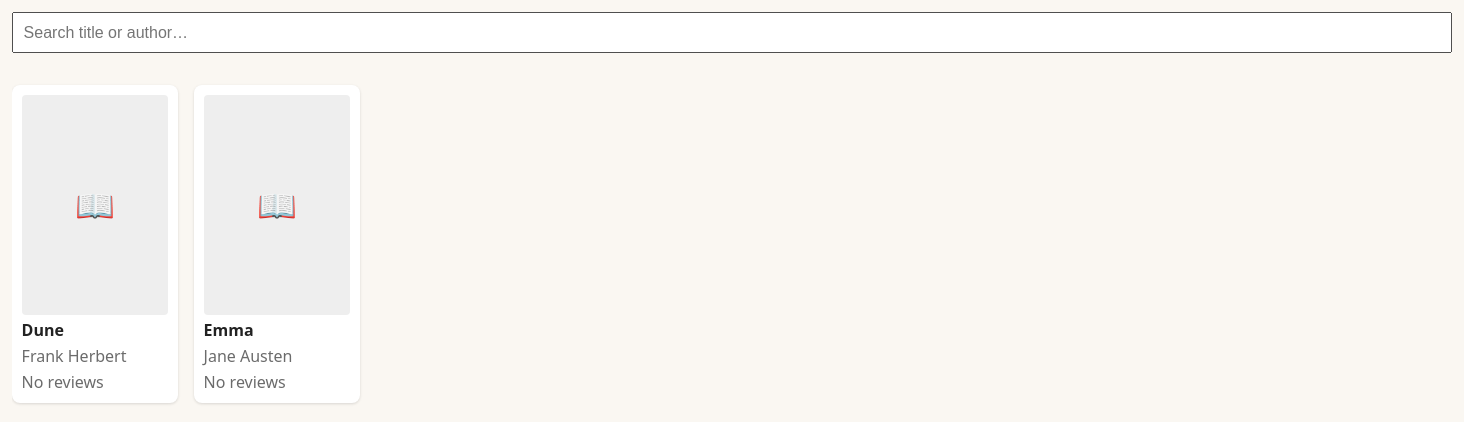
Test case: book list › lists books and searches by the typed text
The image size is (1464, 422).
Expected: the text "Emma" is shown, 204,319 -> 254,341
Step 1. Type "herb" into the search field labelled "Search" → (732, 33), box 12,12 -> 1452,53
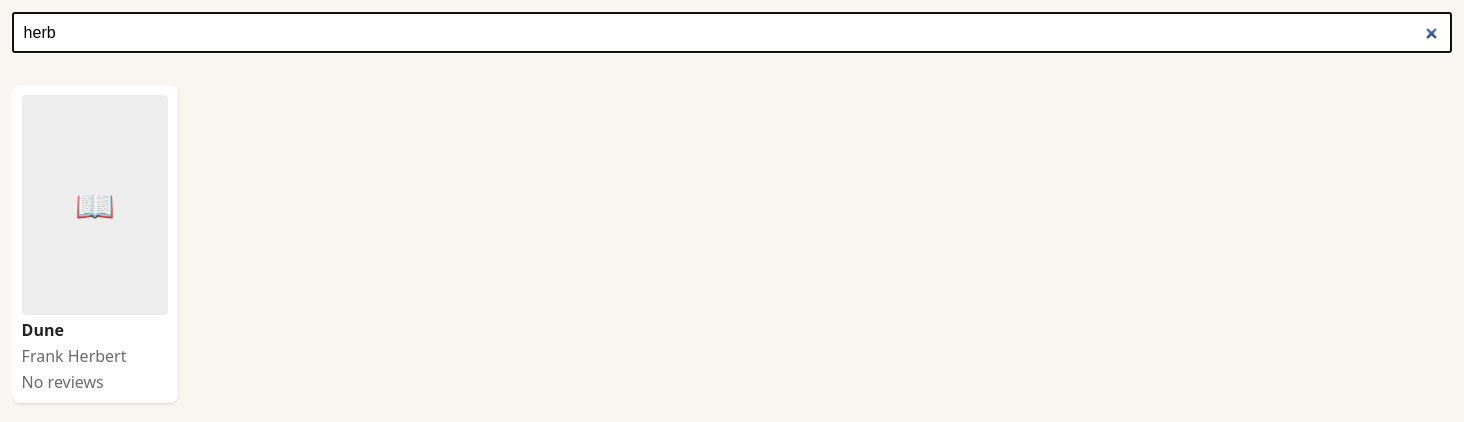
Expected: the text "Dune" is shown, 22,319 -> 64,341
Expected: the link "Emma" is gone
